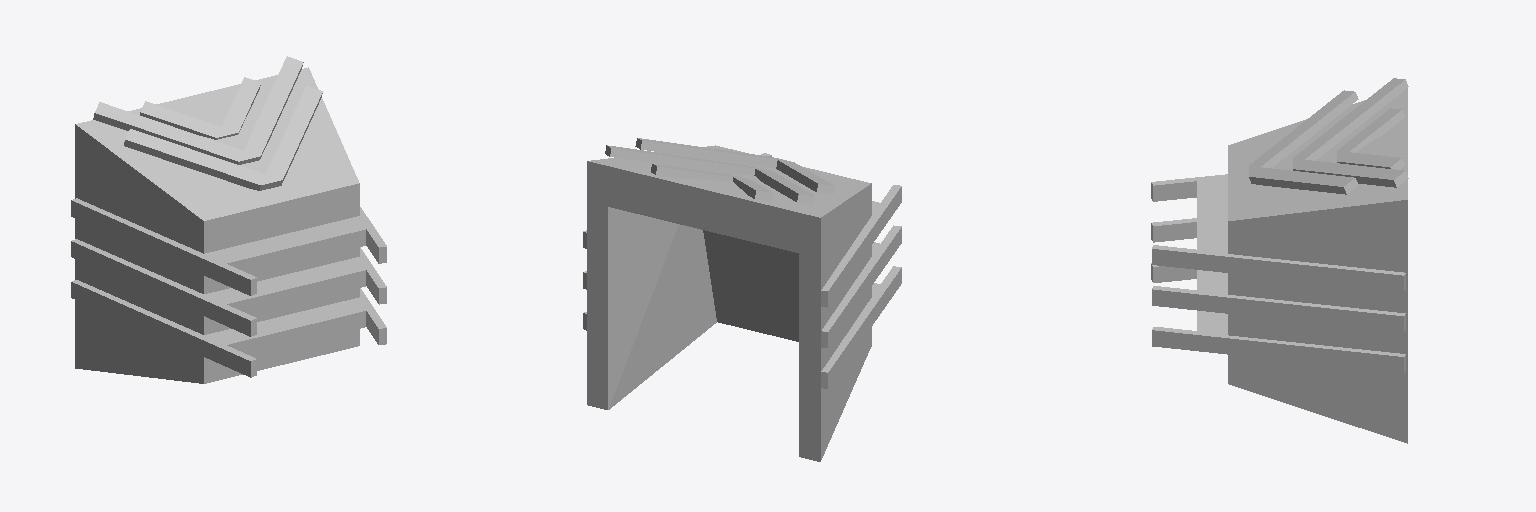
The model's file is mine.obj.
3 renders of one model, left to right at view 1: azimuth 30°, elevation 25°; view 2: azimuth 150°, elevation 25°; view 3: azimuth 270°, elevation 25°, orthographic.
Parts seen in each view (by area): view 1: Cover, Straps, Back.Plate; view 2: Cover, Straps, Back.Plate; view 3: Cover, Straps, Back.Plate.
Part boxes in pixels (x1,y1,x2,y2): Cover: (75,67,359,383); Straps: (71,198,386,377); Back.Plate: (93,56,322,190); Cover: (587,145,871,461); Straps: (583,153,901,388); Back.Plate: (605,138,834,204); Cover: (1228,88,1407,443); Straps: (1151,174,1405,372); Back.Plate: (1249,78,1408,194).
Size of the model in its own units: 9.44 by 9.65 by 8.6.